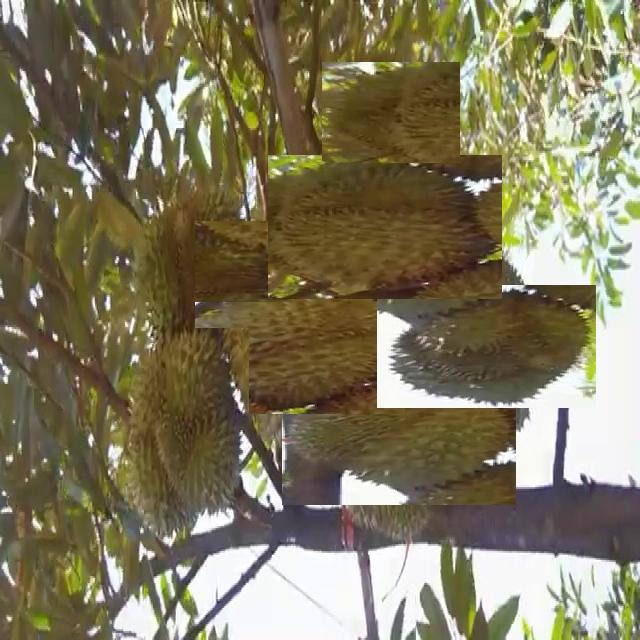durian: (303, 335, 495, 526), (290, 132, 479, 322), (197, 254, 382, 438), (401, 261, 572, 432), (148, 328, 249, 527), (146, 199, 271, 325), (331, 53, 451, 173), (122, 202, 194, 344)
